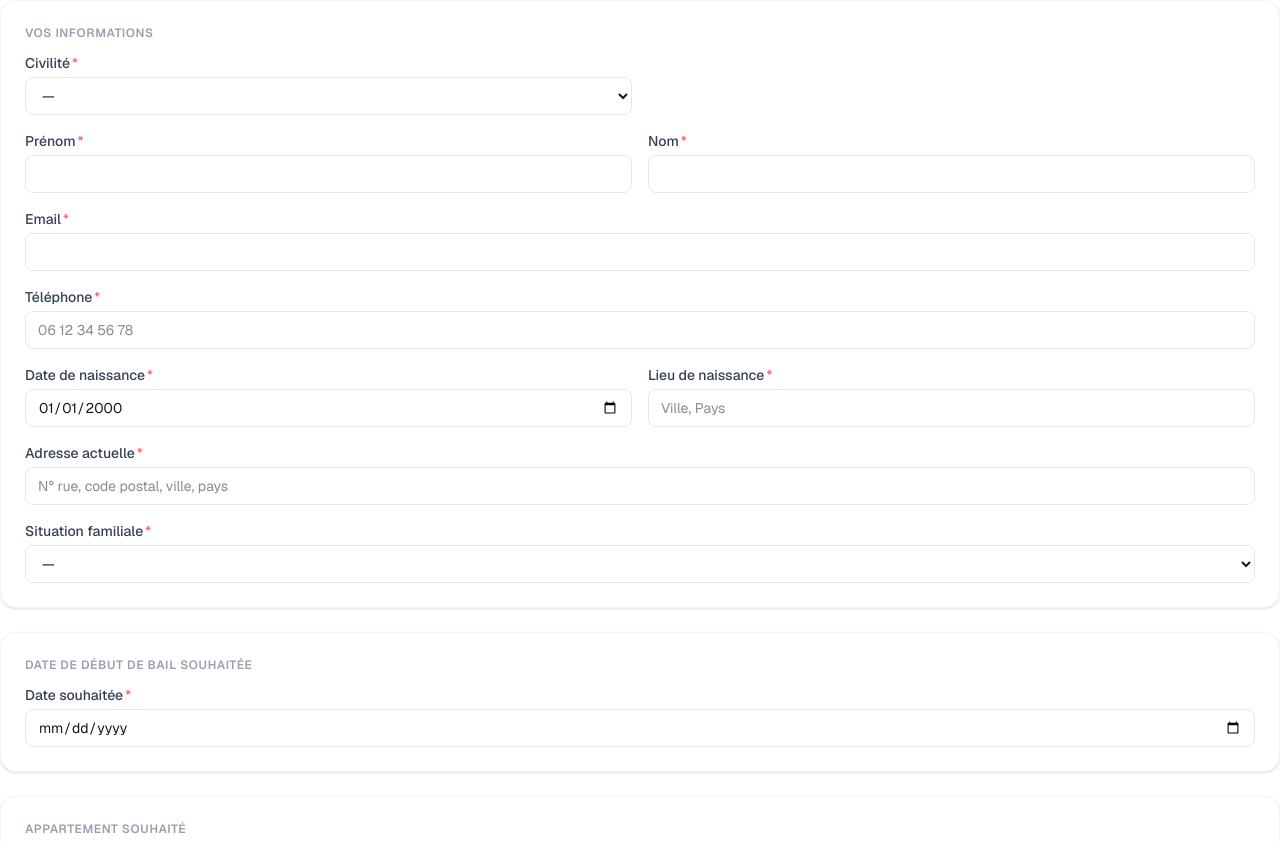
Test: CandidateForm — validation email/téléphone › affiche une erreur pour un email invalide au blur
The image size is (1280, 842).
Type "pas-un-email" into the field below "Email" at x=640, y=252, box [25, 233, 1255, 271]
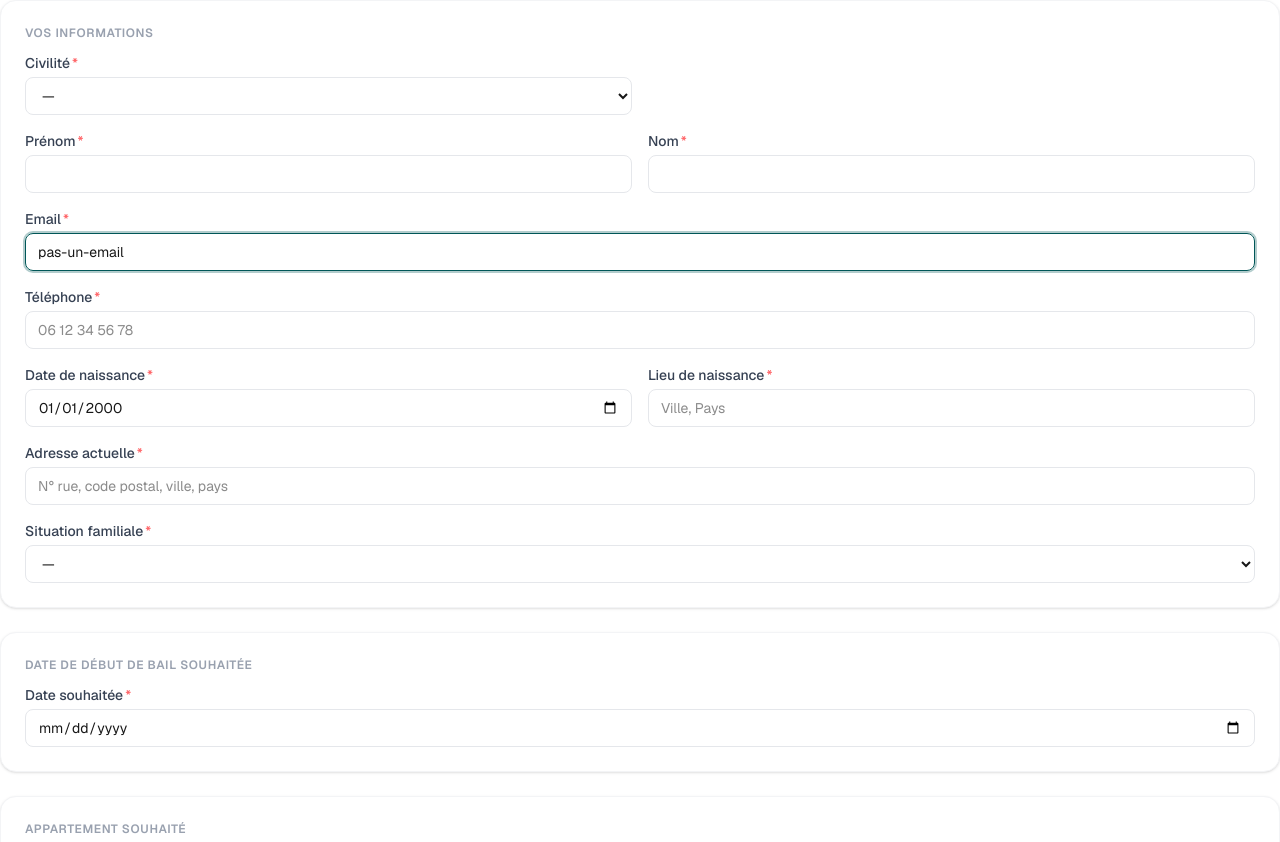
Press Tab
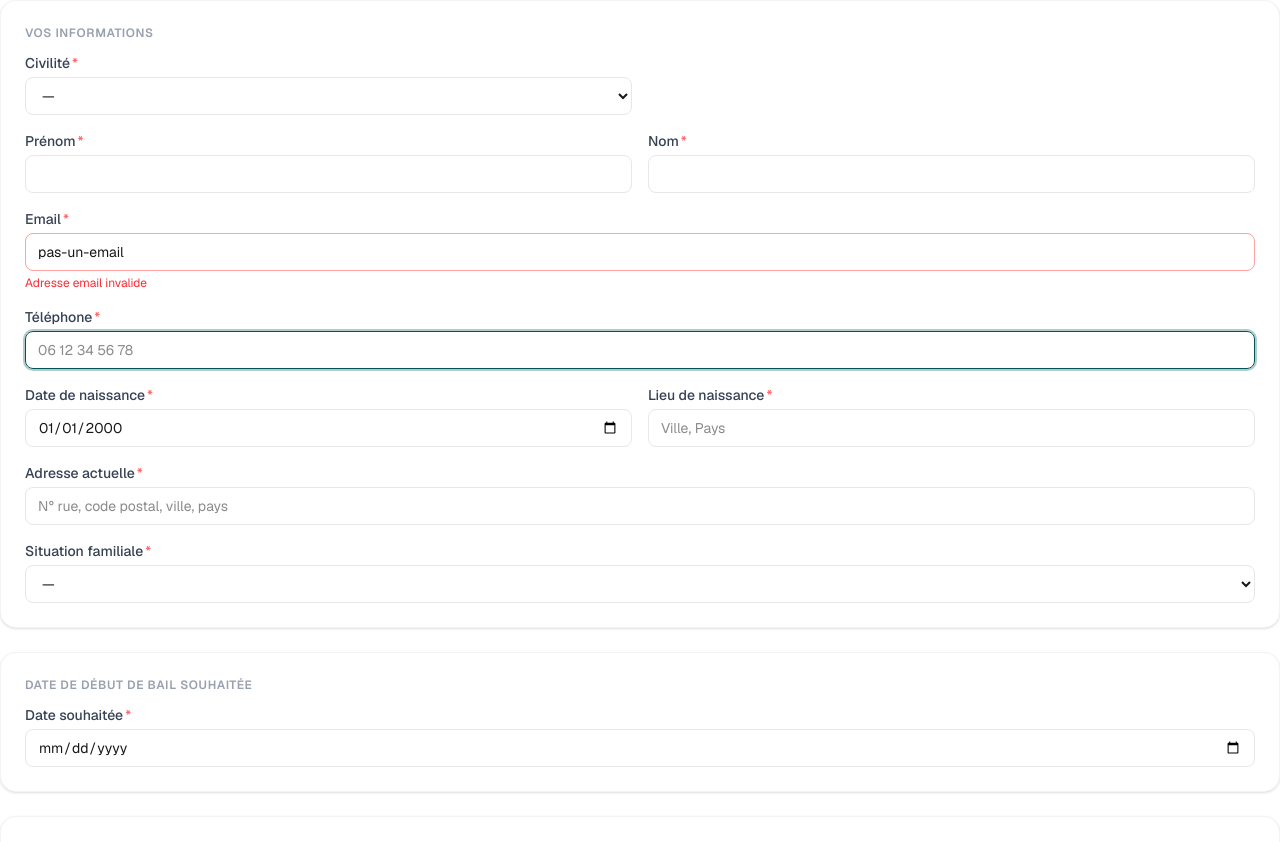
Result: the text "Adresse email invalide" is shown at [25, 275, 147, 291]
